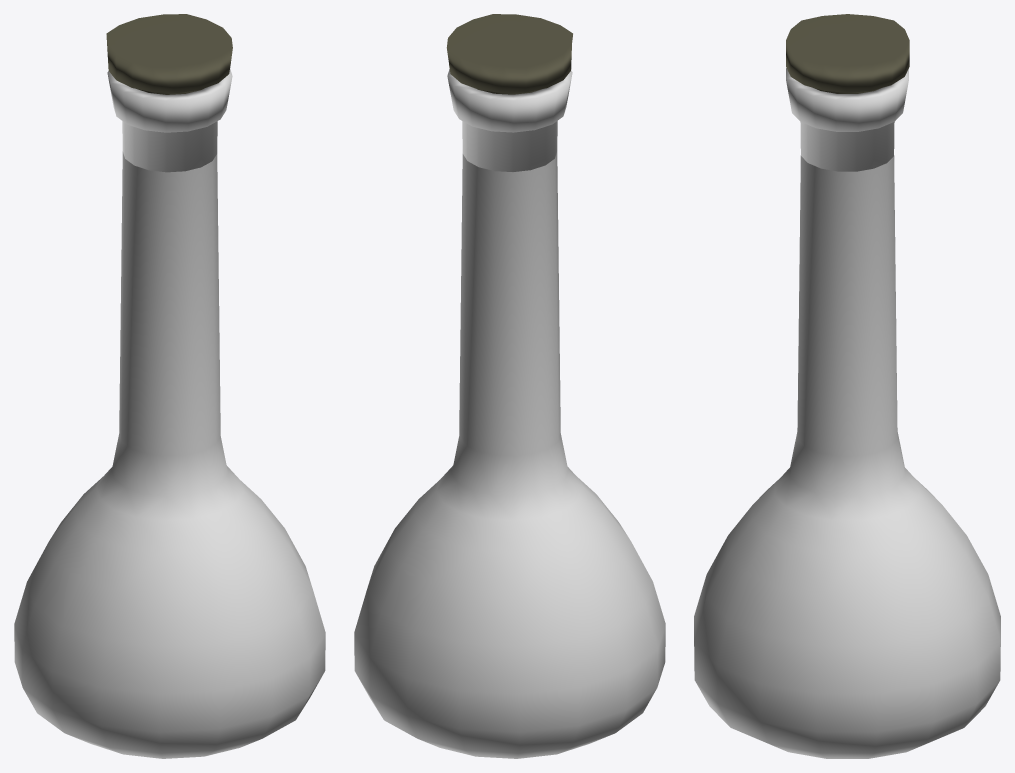
File: Flourine_new.fbx
3 views of the same model, side by side, from view 1: azimuth 30°, elevation 25°; view 2: azimuth 150°, elevation 25°; view 3: azimuth 270°, elevation 25° (orthographic).
Visible parts, largest first — view 1: flask_base1, flask_cap1; view 2: flask_base1, flask_cap1; view 3: flask_base1, flask_cap1.
Part boxes in pixels (x1,y1,x2,y2): flask_base1: [14, 68, 325, 758]; flask_cap1: [106, 14, 232, 94]; flask_base1: [354, 69, 665, 758]; flask_cap1: [446, 14, 572, 94]; flask_base1: [694, 68, 1000, 758]; flask_cap1: [786, 14, 909, 93].
Size of the model in its own units: 1.88 by 4.61 by 1.88.
